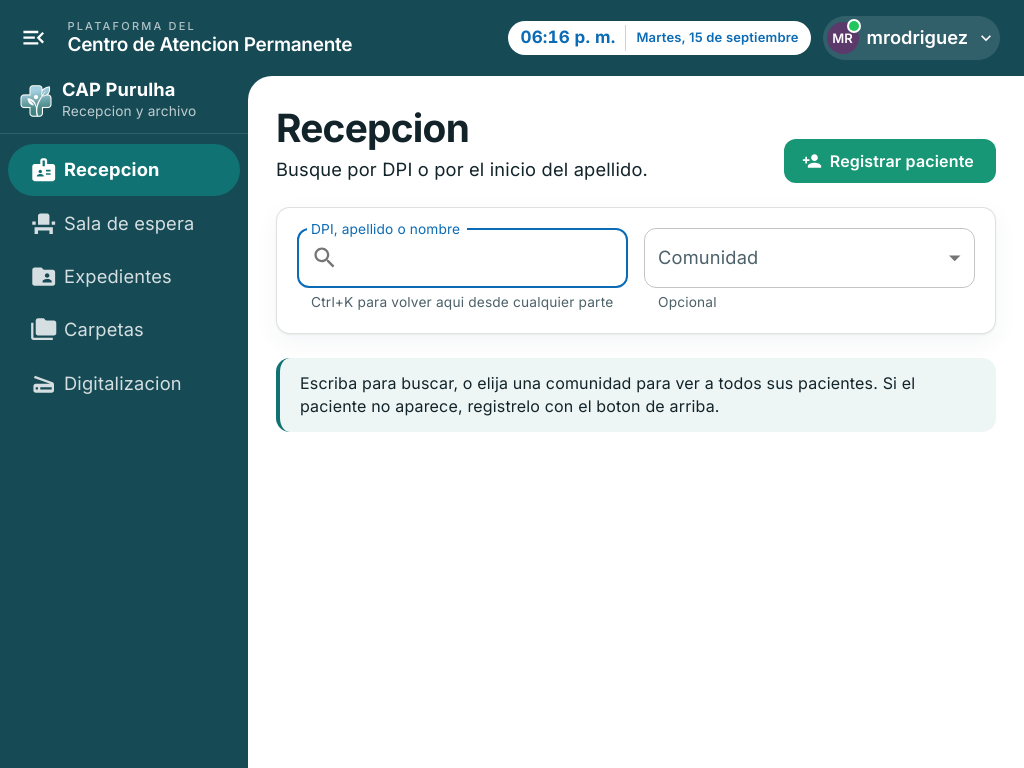
Test: busqueda de recepcion › muestra los resultados sin exponer el DPI en pantalla
Type "Perez" into the field labelled "DPI, apellido o nombre" at (487,258), box [346,228,628,288]
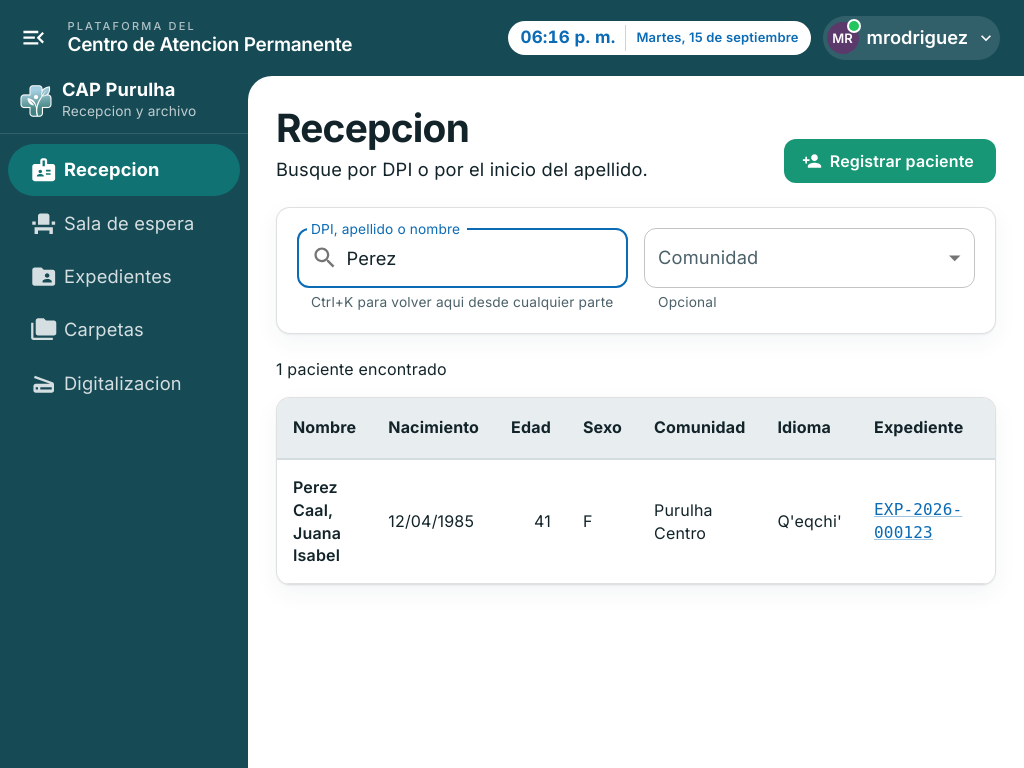
Expected: the text "Perez Caal, Juana Isabel" is shown, [293,477,341,565]
Expected: the link "EXP-2026-000123" is shown, [874,500,962,542]
